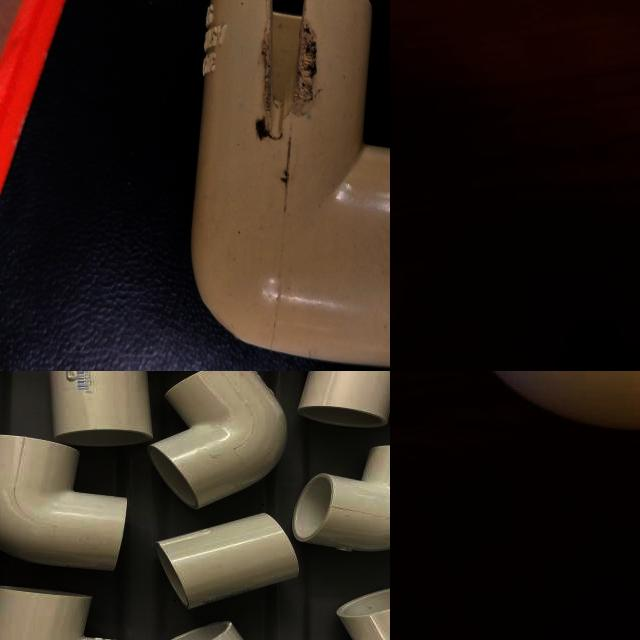Defective: (134, 201, 233, 263), (95, 198, 140, 249)
L Joint: (101, 0, 390, 356), (147, 371, 282, 510), (0, 436, 127, 574), (293, 446, 390, 554)
T Joint: (298, 371, 390, 430)
